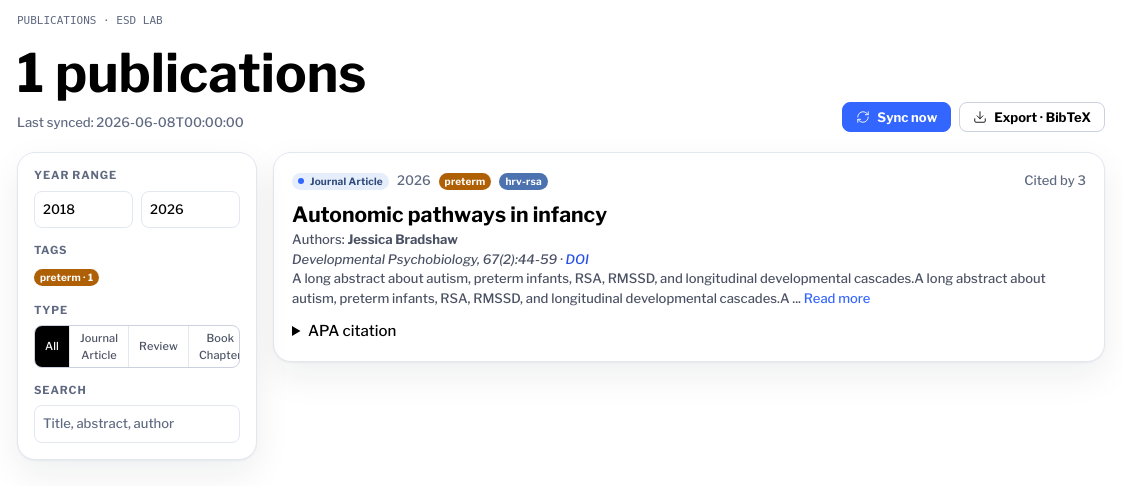
Test: Publications › expands and collapses long abstracts
The width and height of the screenshot is (1123, 486).
What coordinates should you click on to do the following:
click the button "Read more"
I would click on:
 (837, 299)
Its box is [804, 289, 870, 308].
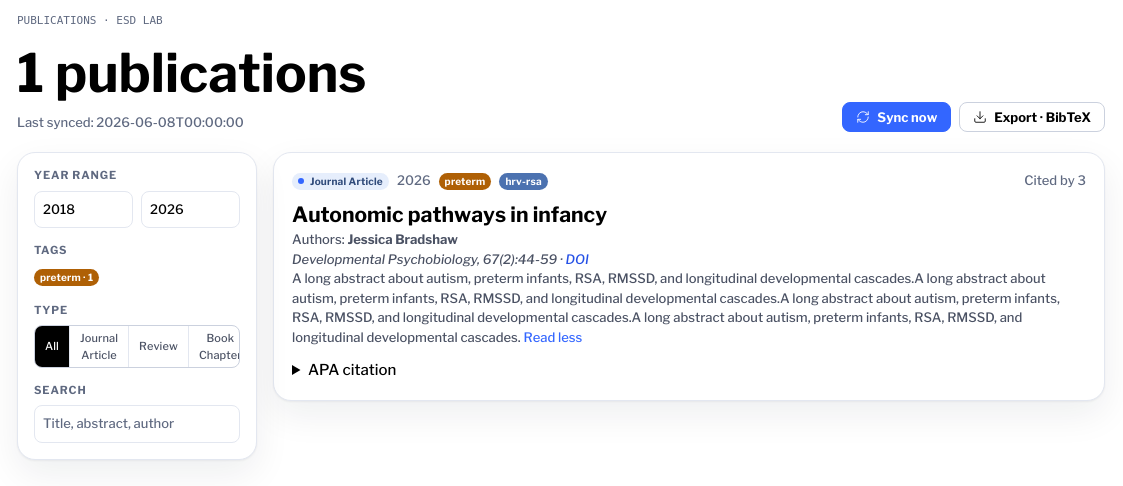
Now the button "Read less" is shown, box [524, 328, 582, 348]
